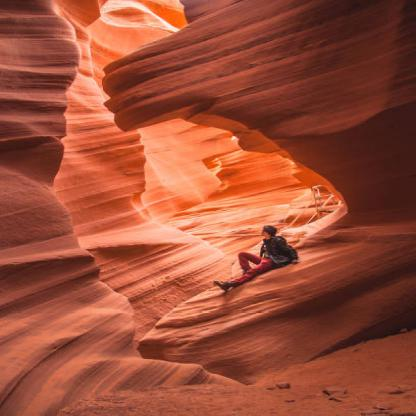Sedimentary_Sandstone: (103, 2, 415, 128), (0, 2, 86, 396), (142, 294, 415, 375), (63, 138, 137, 272)
